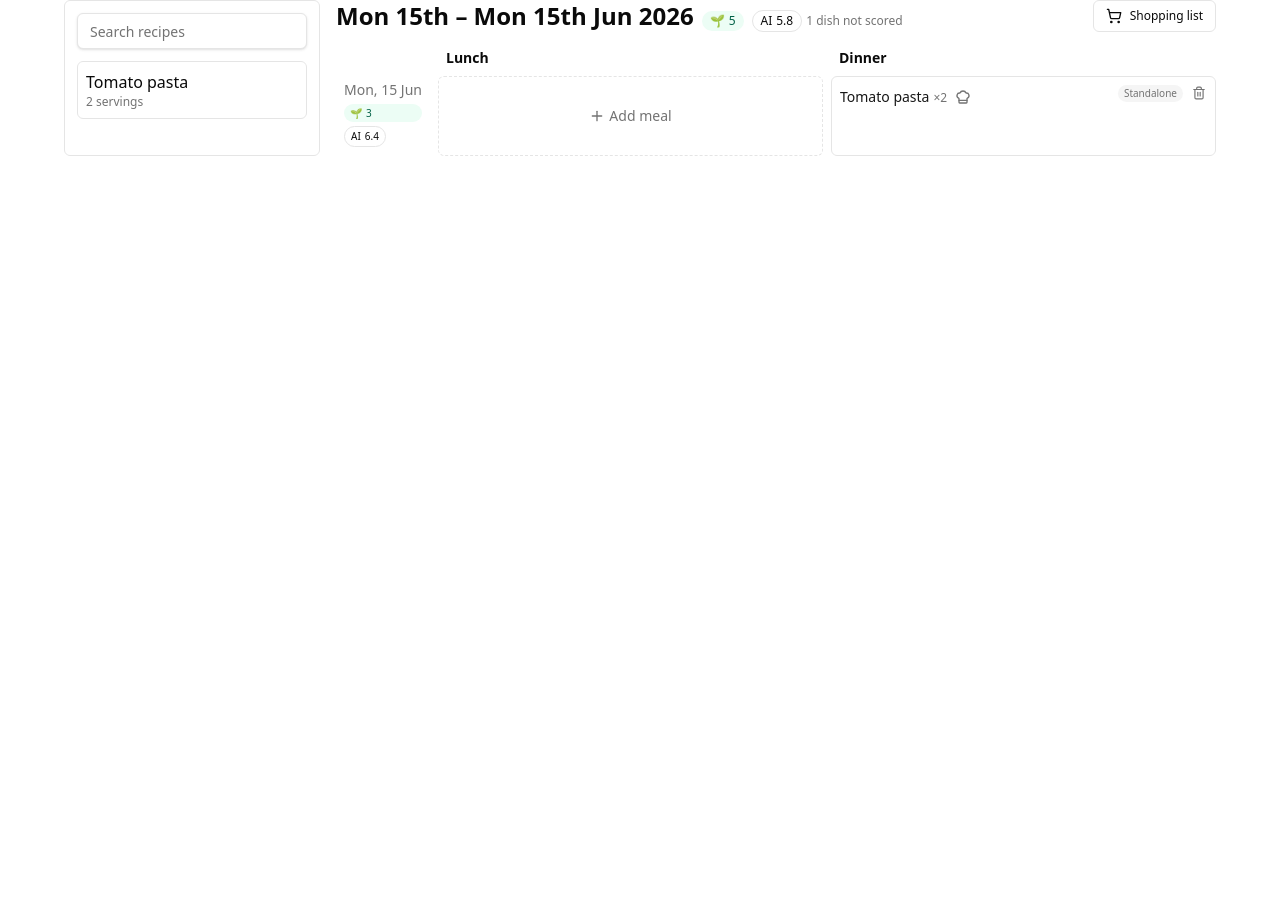
Scenario: PlannerPage › opens the slot editor when an assigned slot is tapped
What coordinates should you click on to do the following:
click the button named "Dinner on 2026-06-15: tomato pasta"
I would click on:
 (1024, 116)
Its box is [832,77,1215,155].
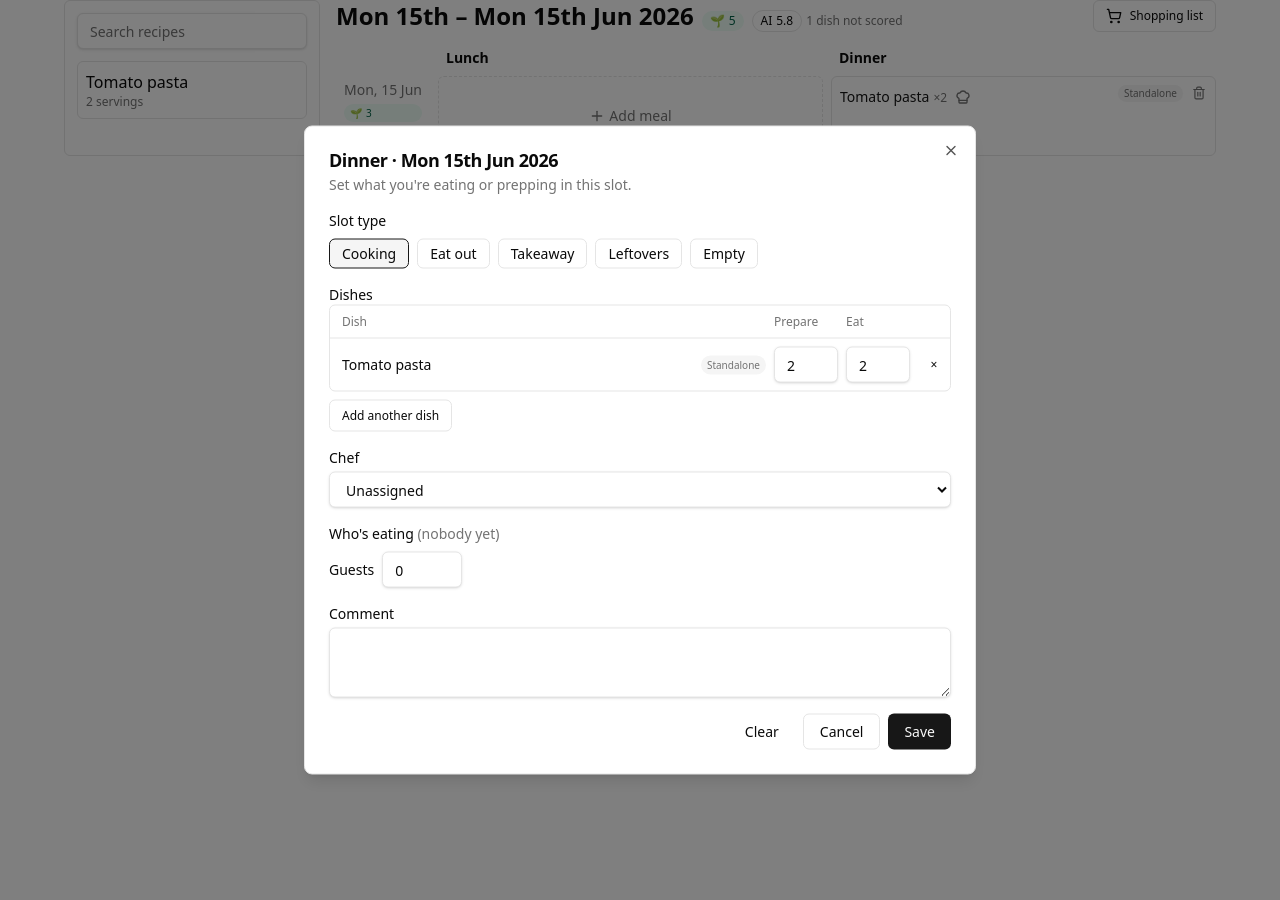
Now the heading "Dinner · Mon 15th Jun 2026" is shown, box [329,148,558,172]
